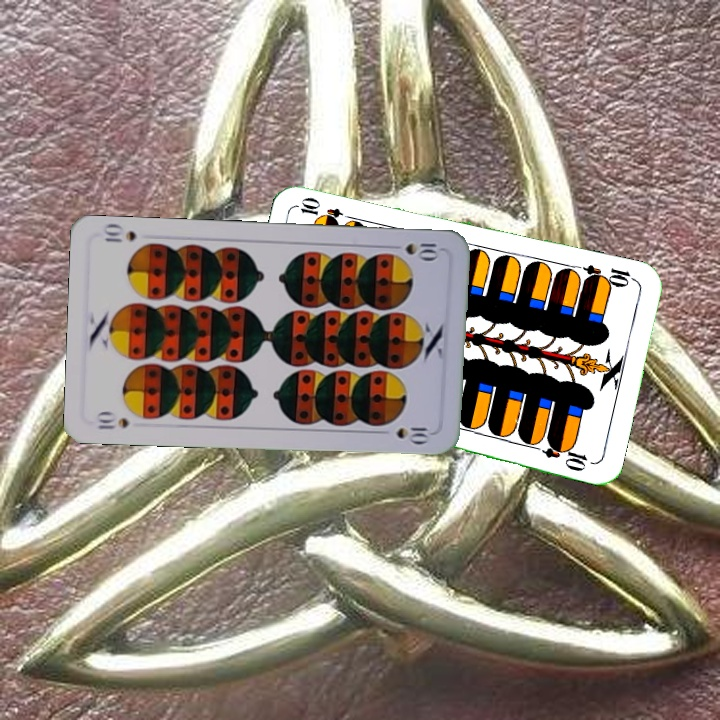E10: (580, 260, 639, 290)
S10: (385, 239, 444, 262), (92, 408, 132, 432)
